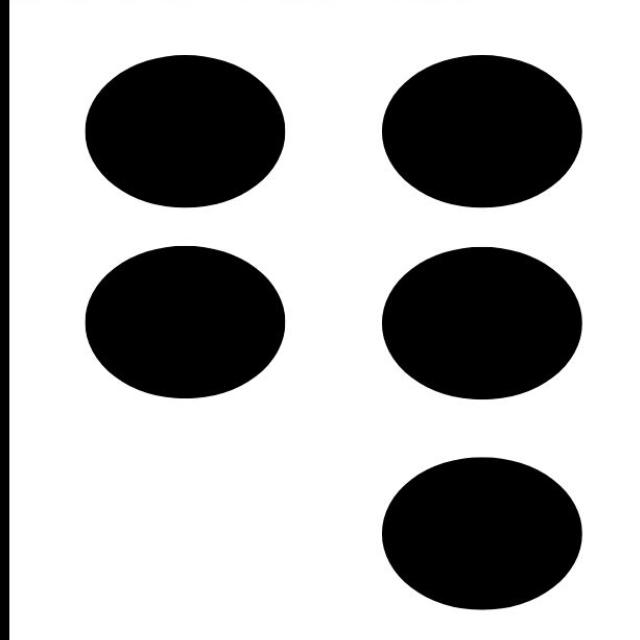one_cell_non_alphabet_raw: (80, 49, 585, 612)
